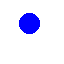circle: (19, 13, 39, 33)
